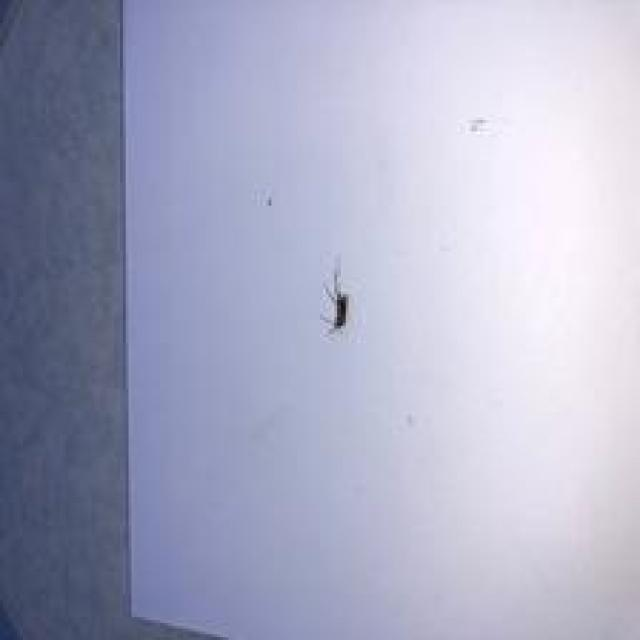Culex: (319, 254, 350, 337)
